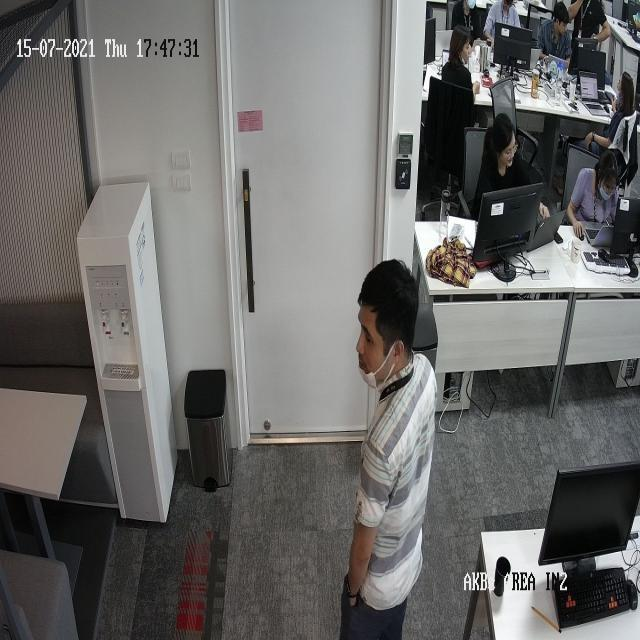hairnet: (356, 333, 386, 393), (454, 33, 476, 71)
